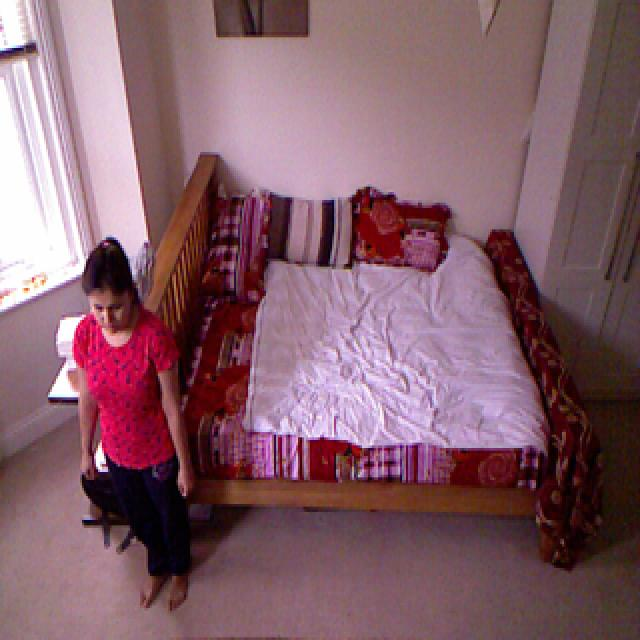stand: (62, 237, 194, 602)
